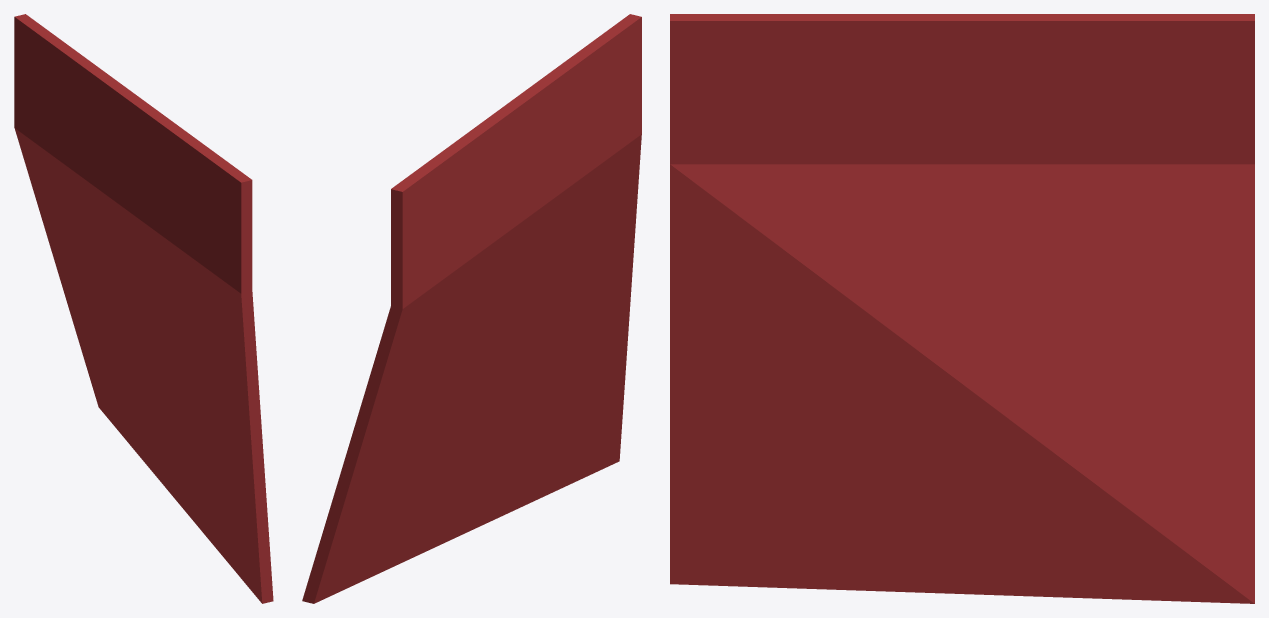
Rendered from magnet2.fbx.
The picture shows the model from 3 angles, left to right: view 1: azimuth 30°, elevation 25°; view 2: azimuth 150°, elevation 25°; view 3: azimuth 270°, elevation 25°; orthographic projection. The views are drawn at different scales.
Visible parts, largest first — view 1: magnet2; view 2: magnet2; view 3: magnet2.
Part boxes in pixels (box(x1,y1,x2,y2)): magnet2: box(14, 14, 273, 603); magnet2: box(302, 14, 641, 603); magnet2: box(670, 14, 1254, 603).
Bounding box in the file's own units: 0.4855 × 2 × 2.07.
